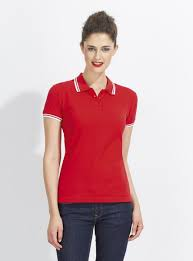S_polo shirt: (38, 71, 152, 204)
